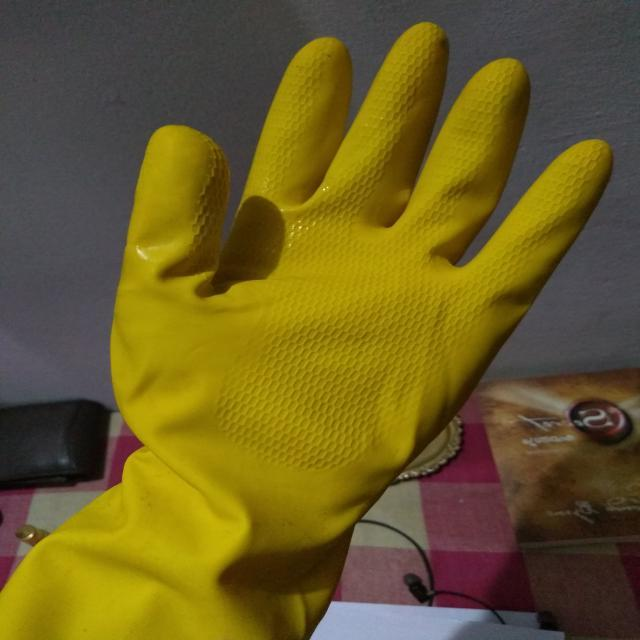gloved_hand: (4, 16, 616, 638)
